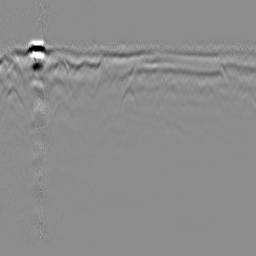cavity: (116, 82, 139, 123)
